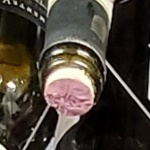bottle: (22, 41, 120, 125)
